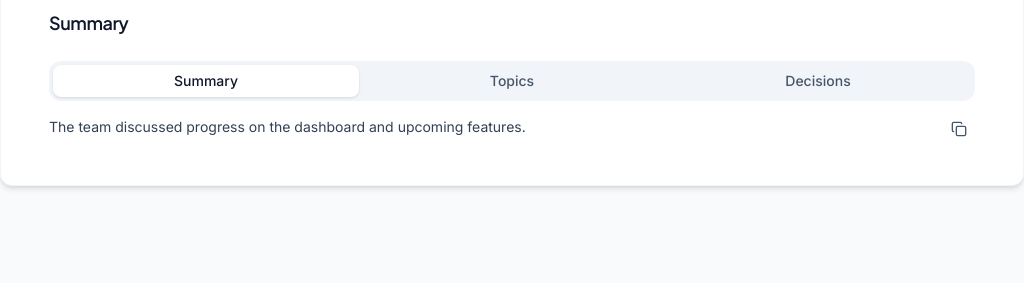
Test: SummaryPanel › should switch to Decisions tab and show decisions
Click the tab "Decisions".
click(818, 81)  # box [665, 65, 971, 97]
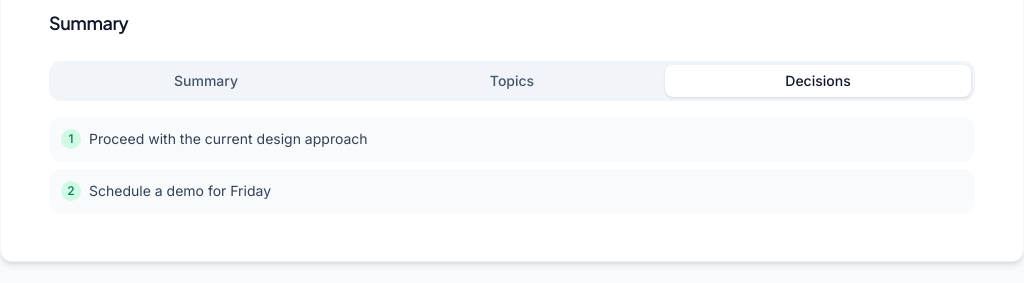
Now the text "Proceed with the current design approach" is shown, box [89, 129, 368, 149]
Now the text "Schedule a demo for Friday" is shown, box [89, 181, 271, 201]
